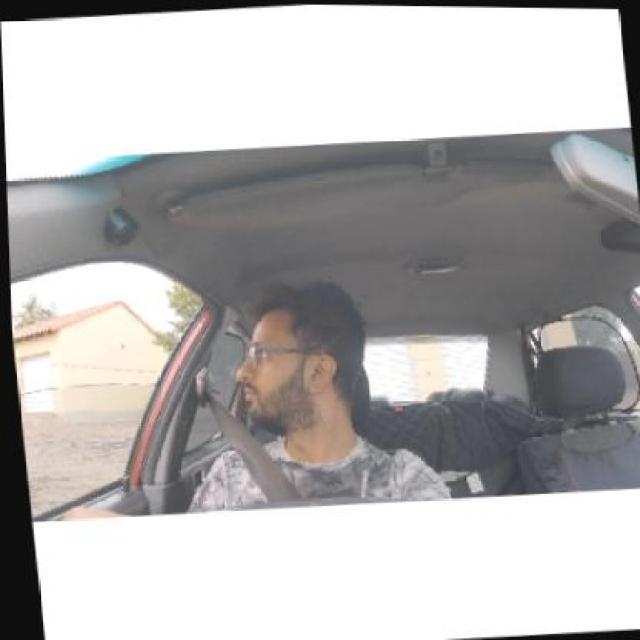LeftRight: (232, 299, 358, 426)
